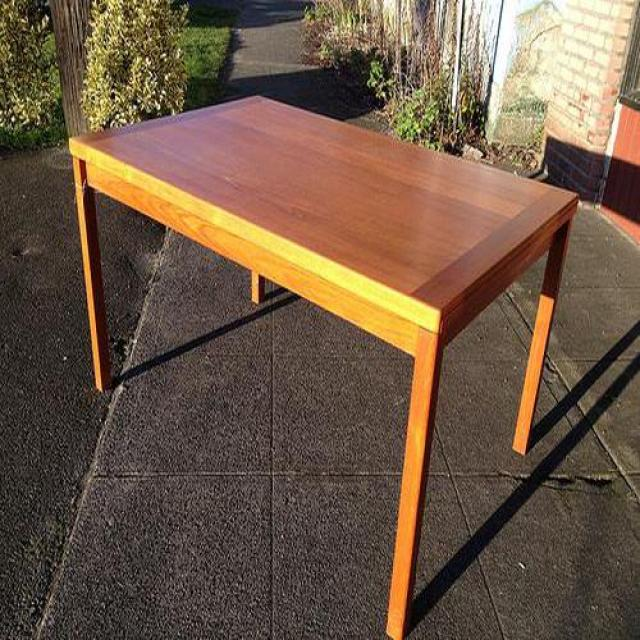table: (69, 96, 580, 640)
